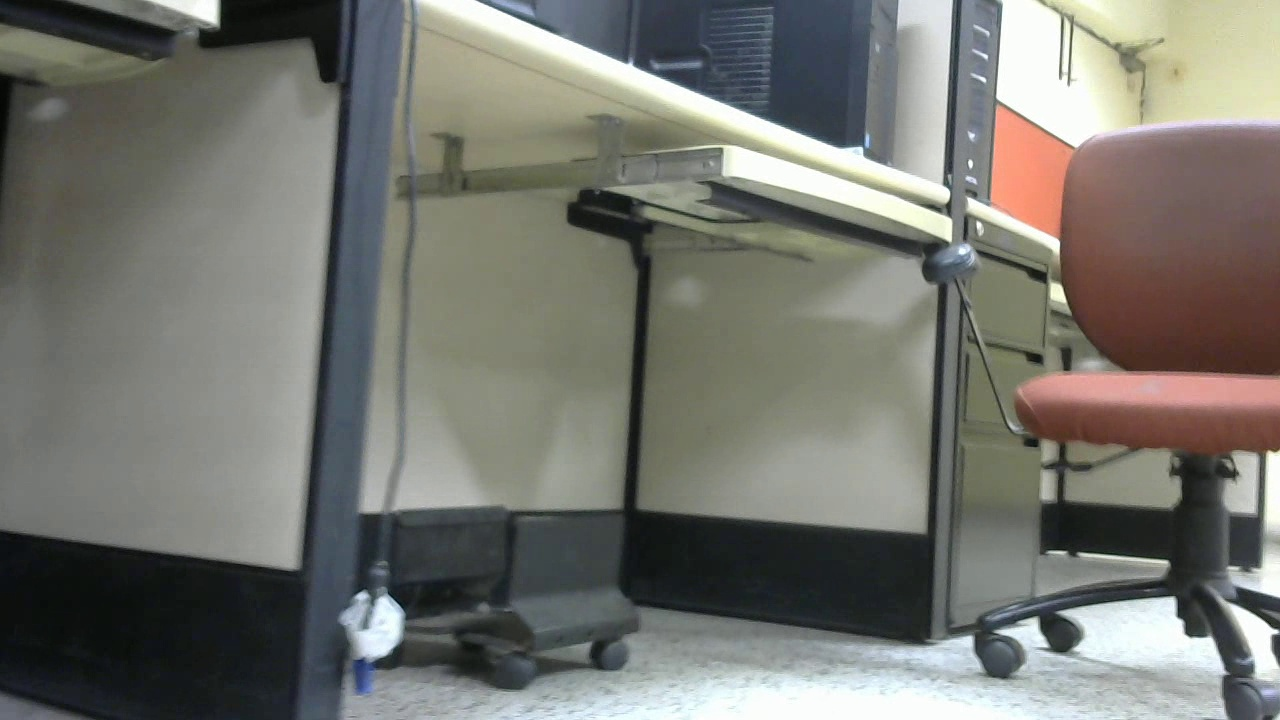chair: (318, 231, 561, 535)
